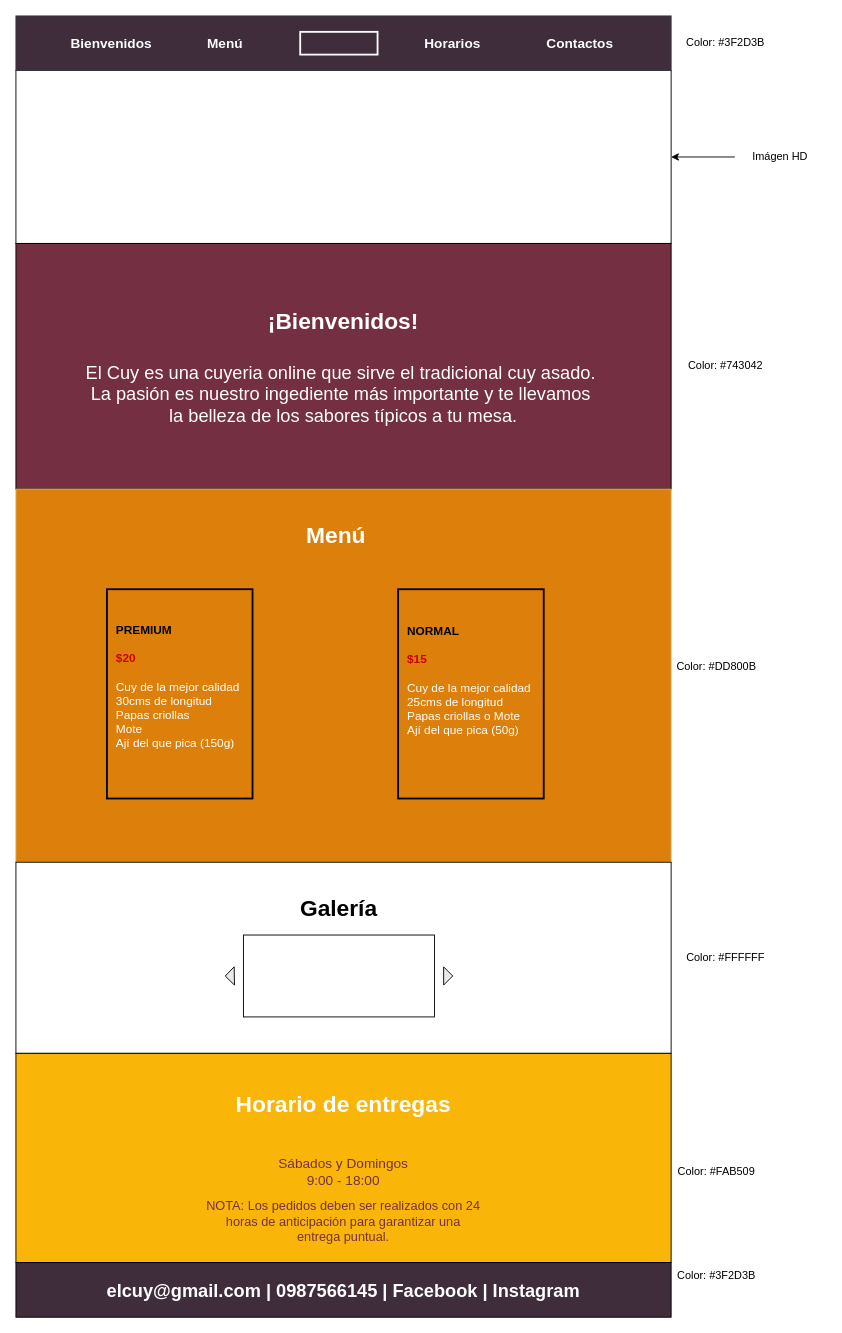
This 842x1333 diagram has some shape labels left out. Each missing label, with the centre of its shape:
"EL CUY" goes at (338,42).
"Fotos" goes at (339,975).
"Sabor cuencano" goes at (343,156).
